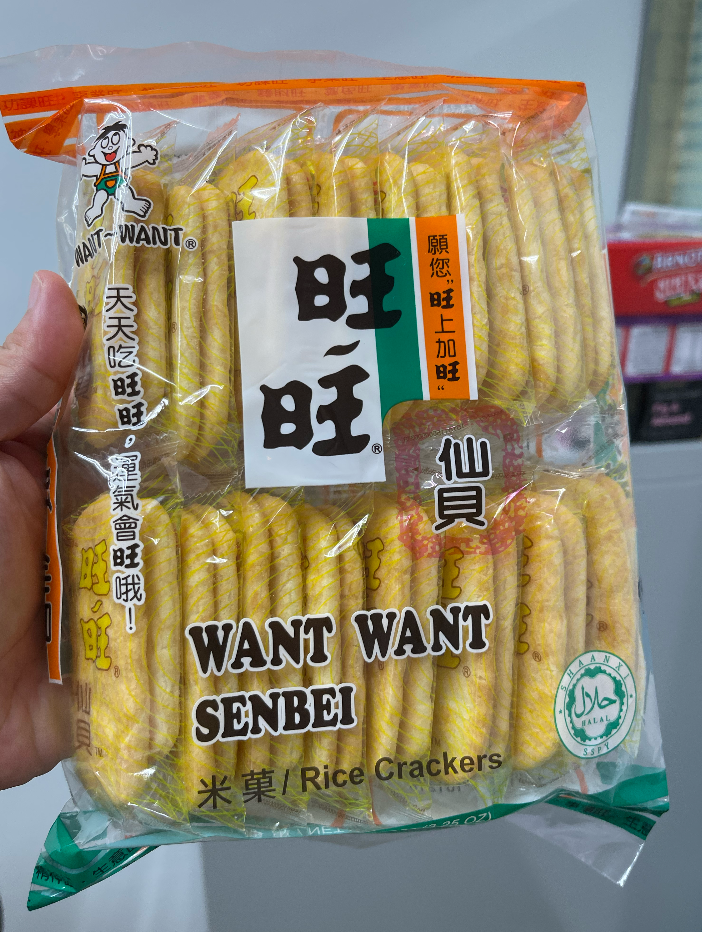crackers_1g-99g: (86, 111, 633, 821)
